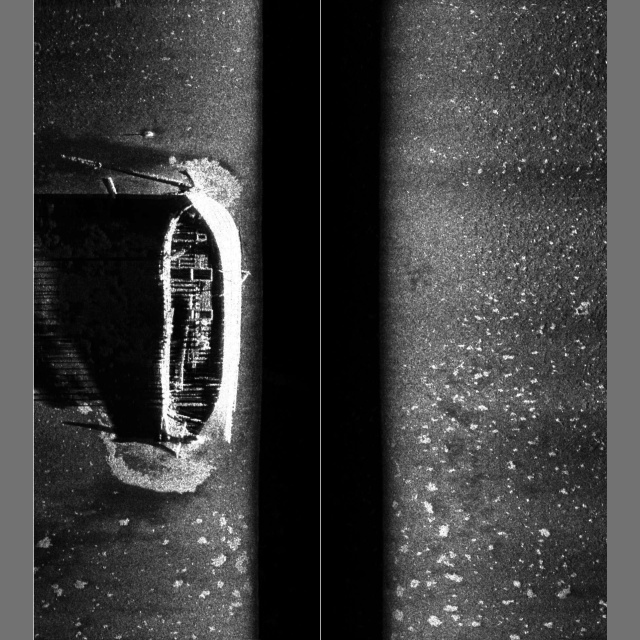Shipwreck: (61, 152, 251, 459)
